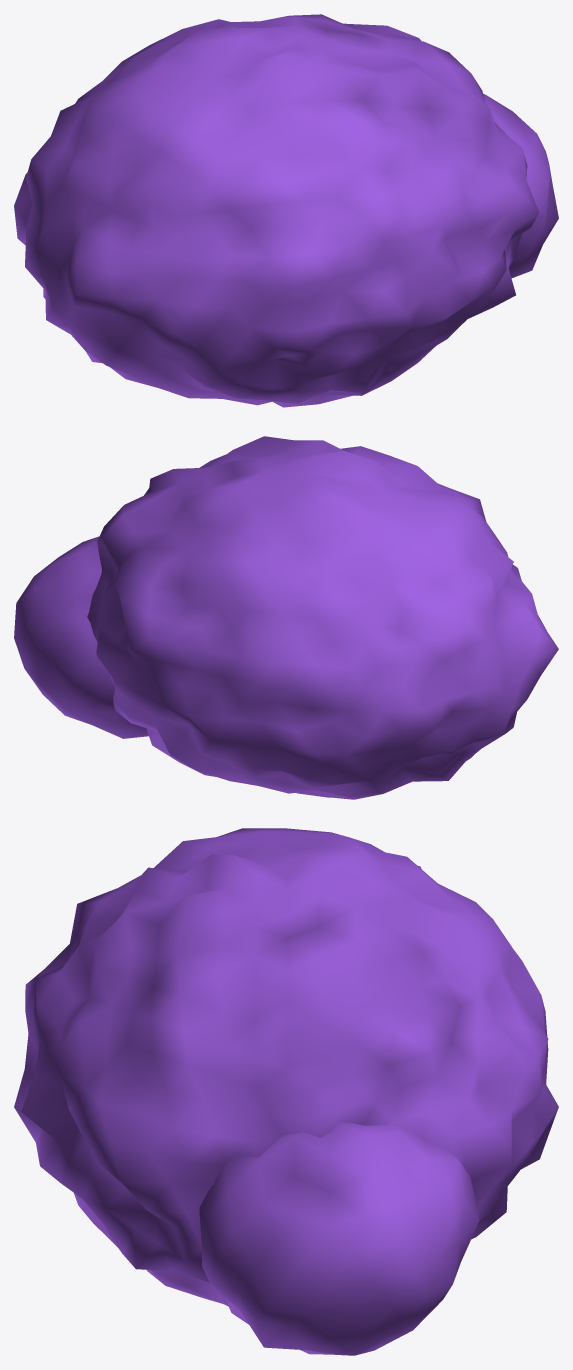
Rendered from coral_brain.glb.
3 renders of one model, top to bottom at view 1: azimuth 30°, elevation 25°; view 2: azimuth 150°, elevation 25°; view 3: azimuth 270°, elevation 25°, orthographic. The views are drawn at different scales.
Visible parts, largest first — view 1: coral_brain_mesh; view 2: coral_brain_mesh; view 3: coral_brain_mesh.
Part boxes in pixels (left/top/right/bottom): coral_brain_mesh: left=14, top=14, right=558, bottom=407; coral_brain_mesh: left=14, top=436, right=558, bottom=799; coral_brain_mesh: left=14, top=828, right=558, bottom=1355.
Size of the model in its own units: 1.64 by 1.04 by 1.26.
